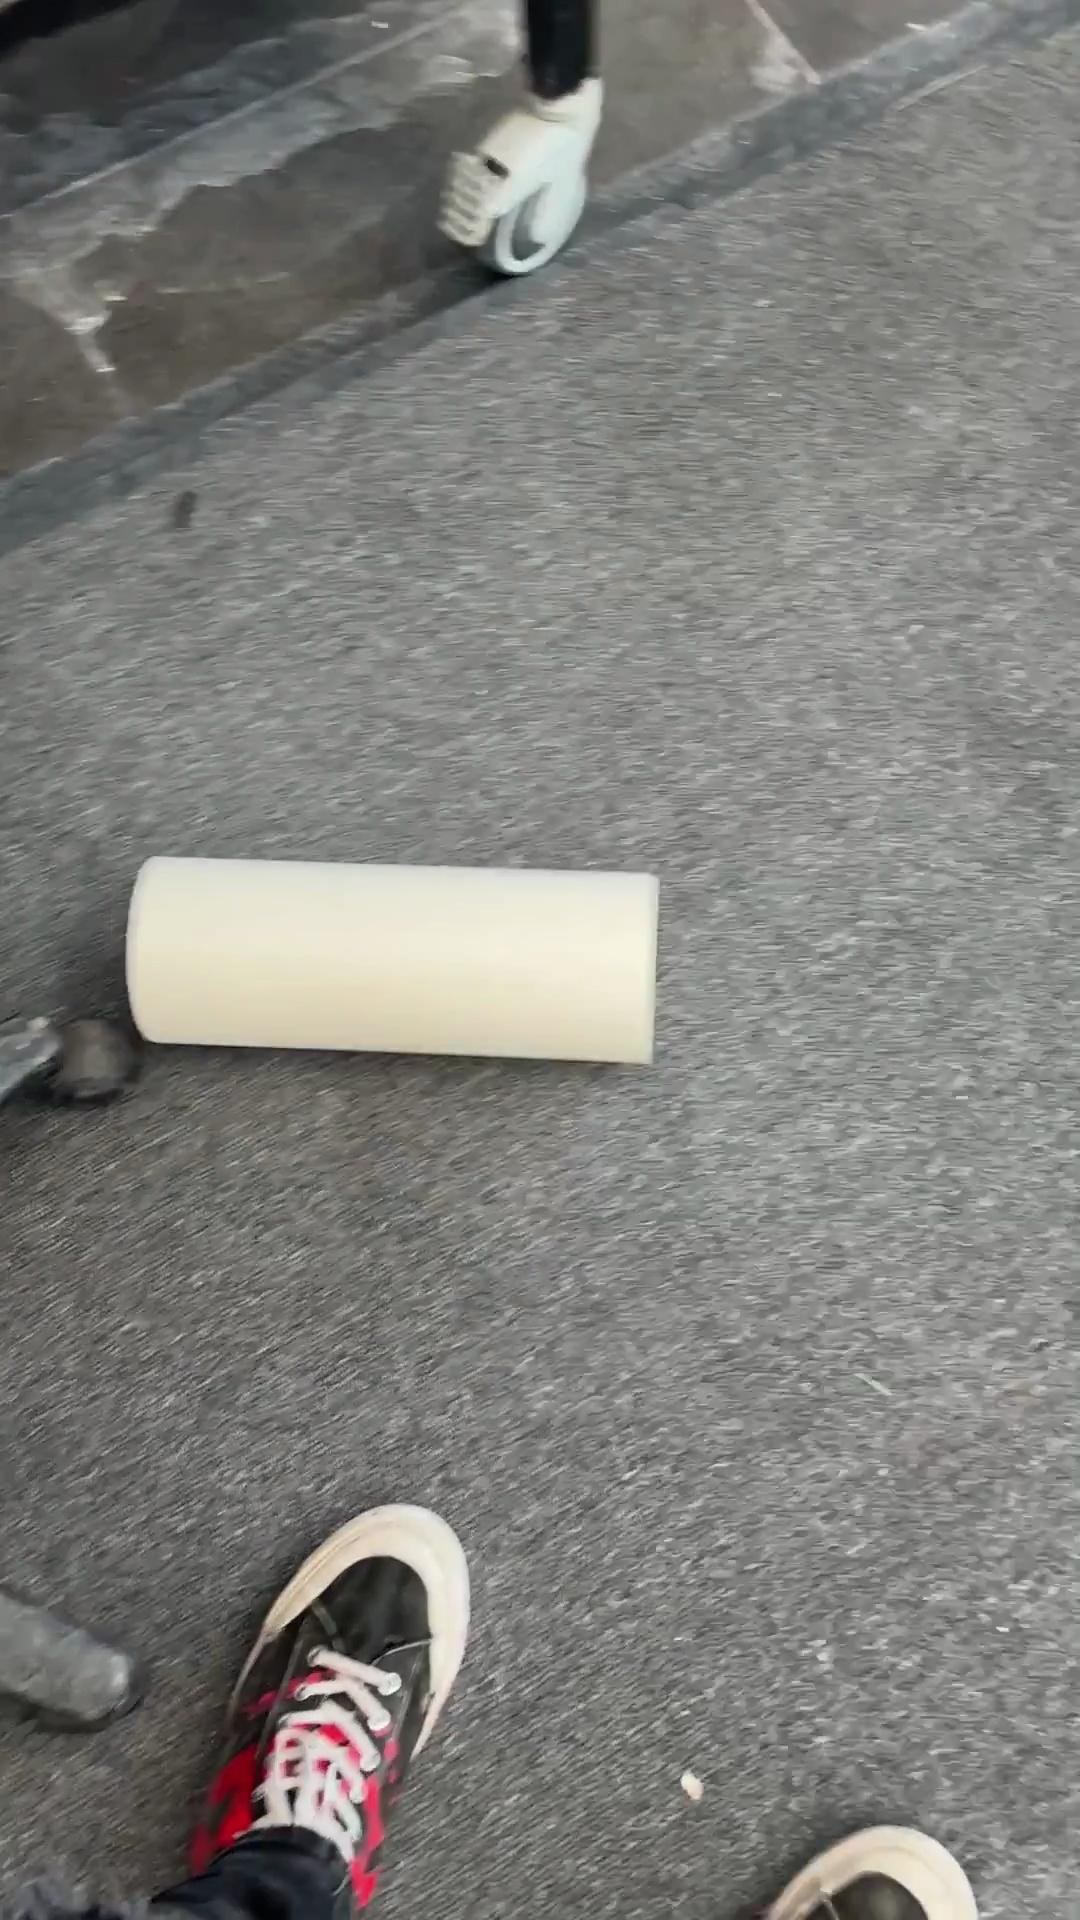CORAL: (122, 851, 660, 1068)
